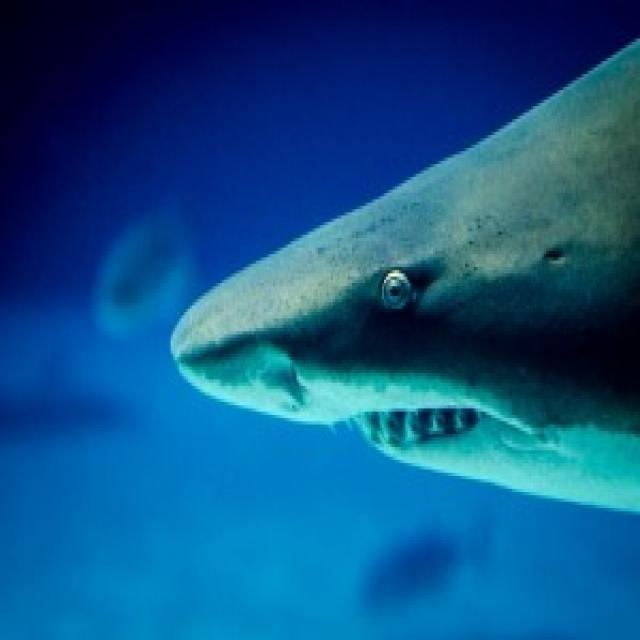Shark: (168, 35, 640, 524)
